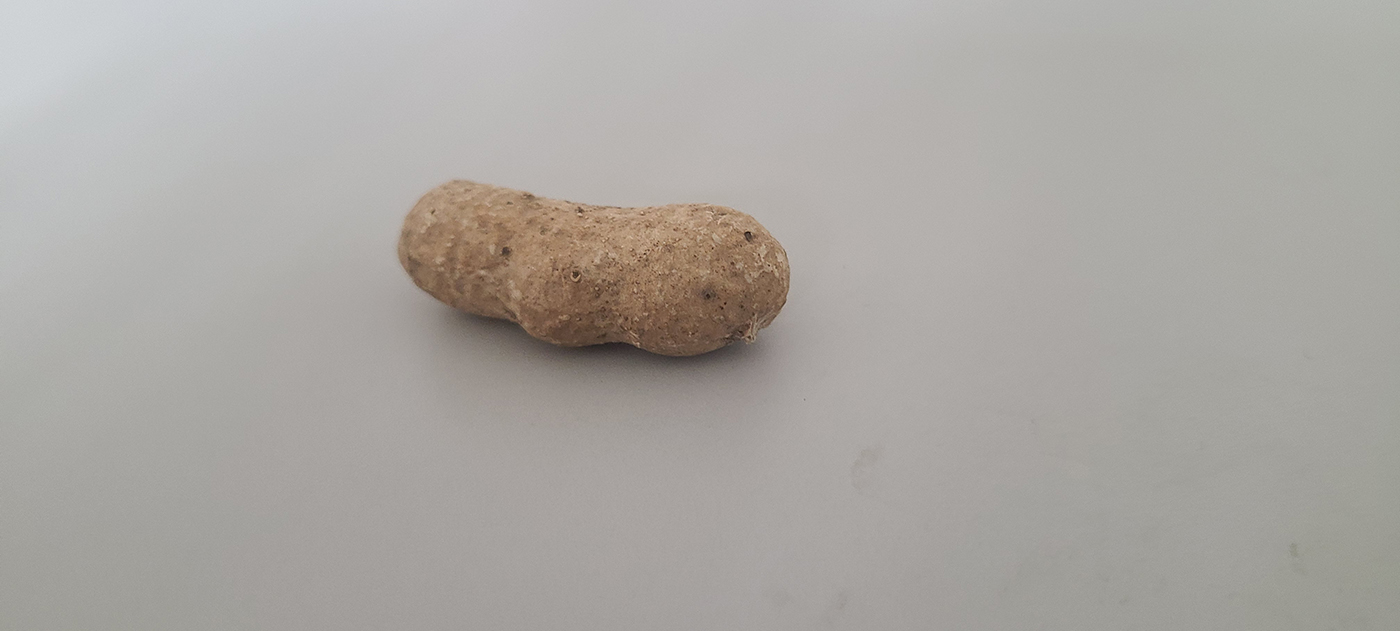h: (396, 177, 791, 357)
